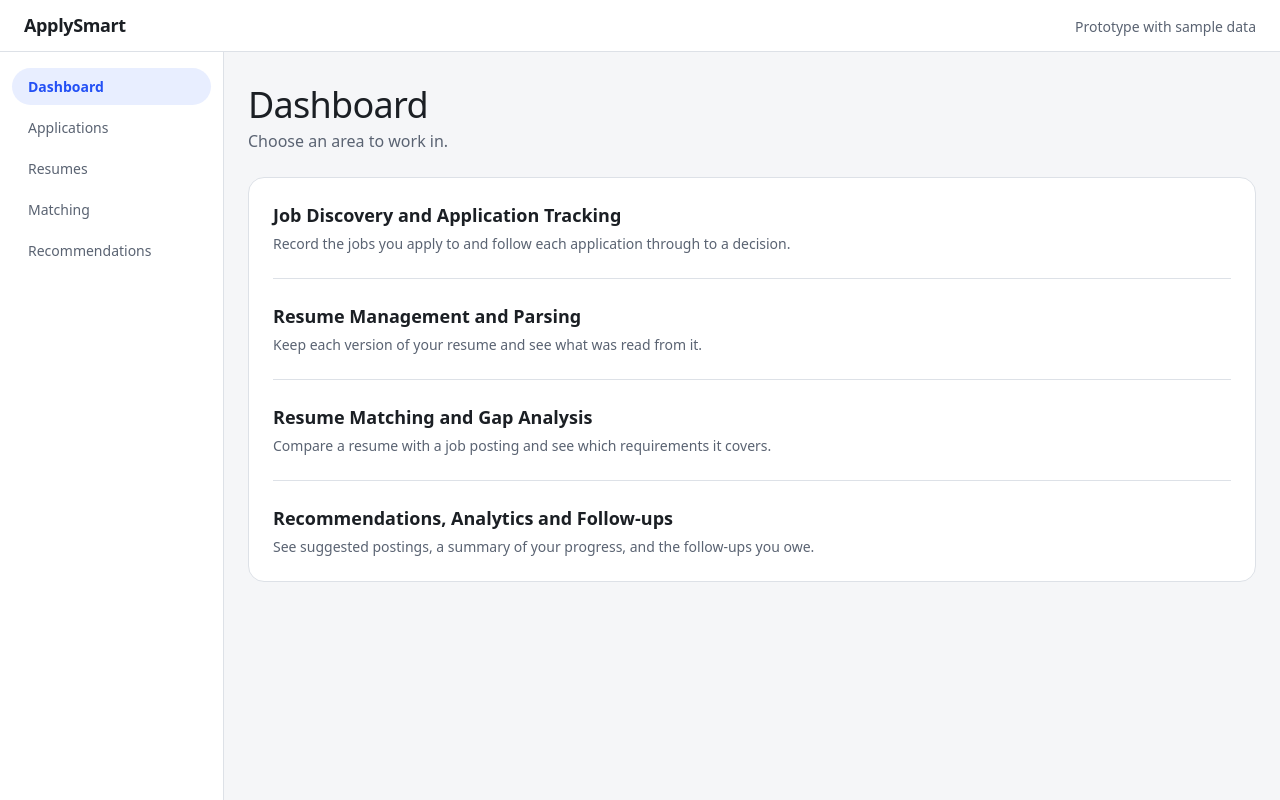
Scenario: the "Matching" link opens its page, marks it current and moves focus to it
Click the link "Matching": point(59, 210) [28,200,90,219]
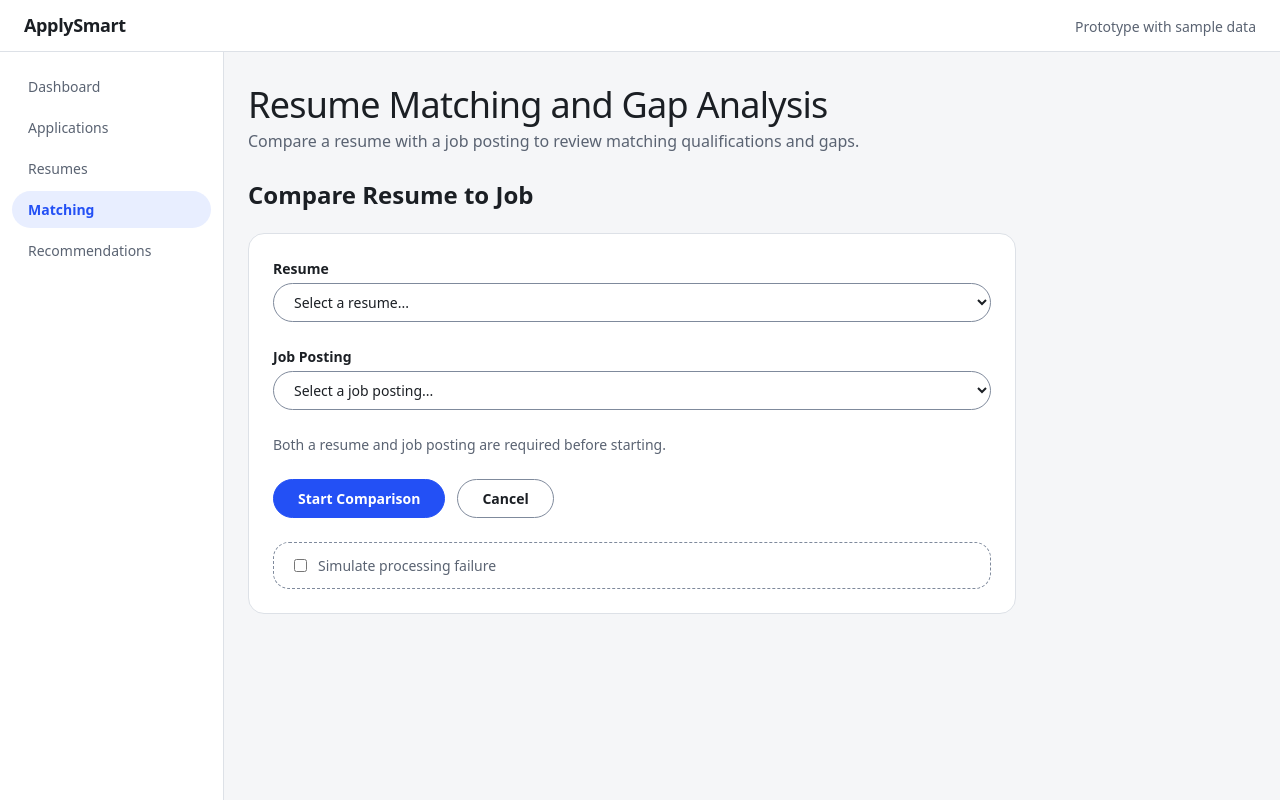
Check: the heading "Resume Matching and Gap Analysis" is shown, box [248,84,859,125]
